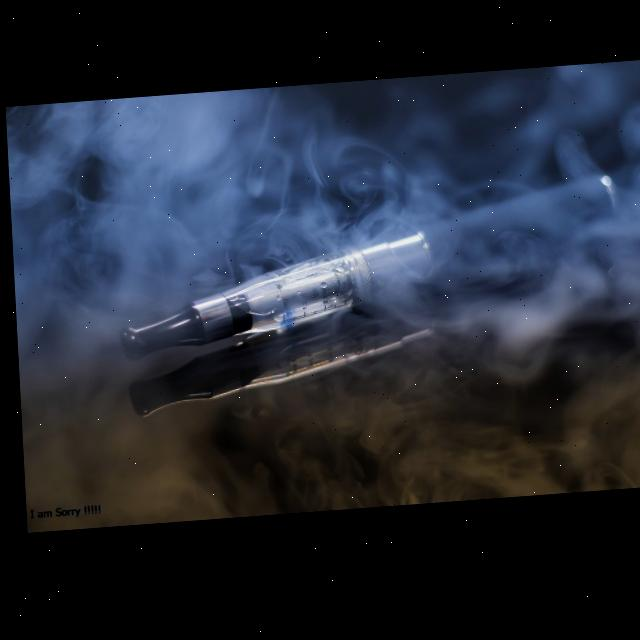vape: (113, 183, 627, 365)
